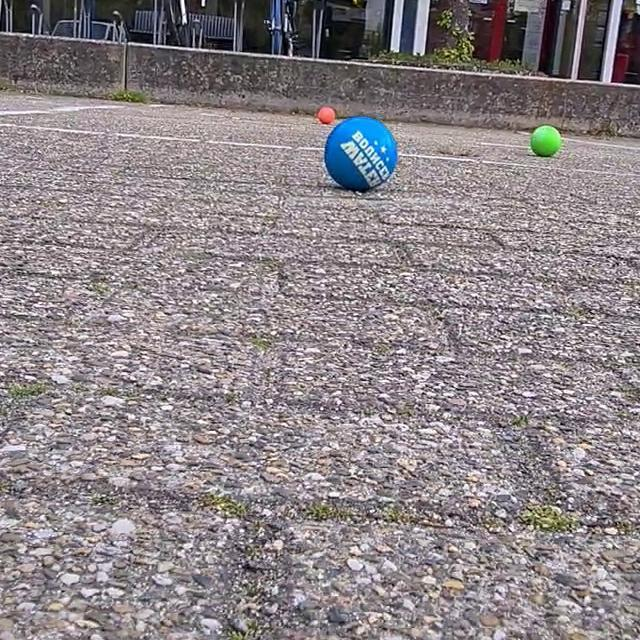ball: (530, 123, 562, 161), (316, 103, 336, 128)
